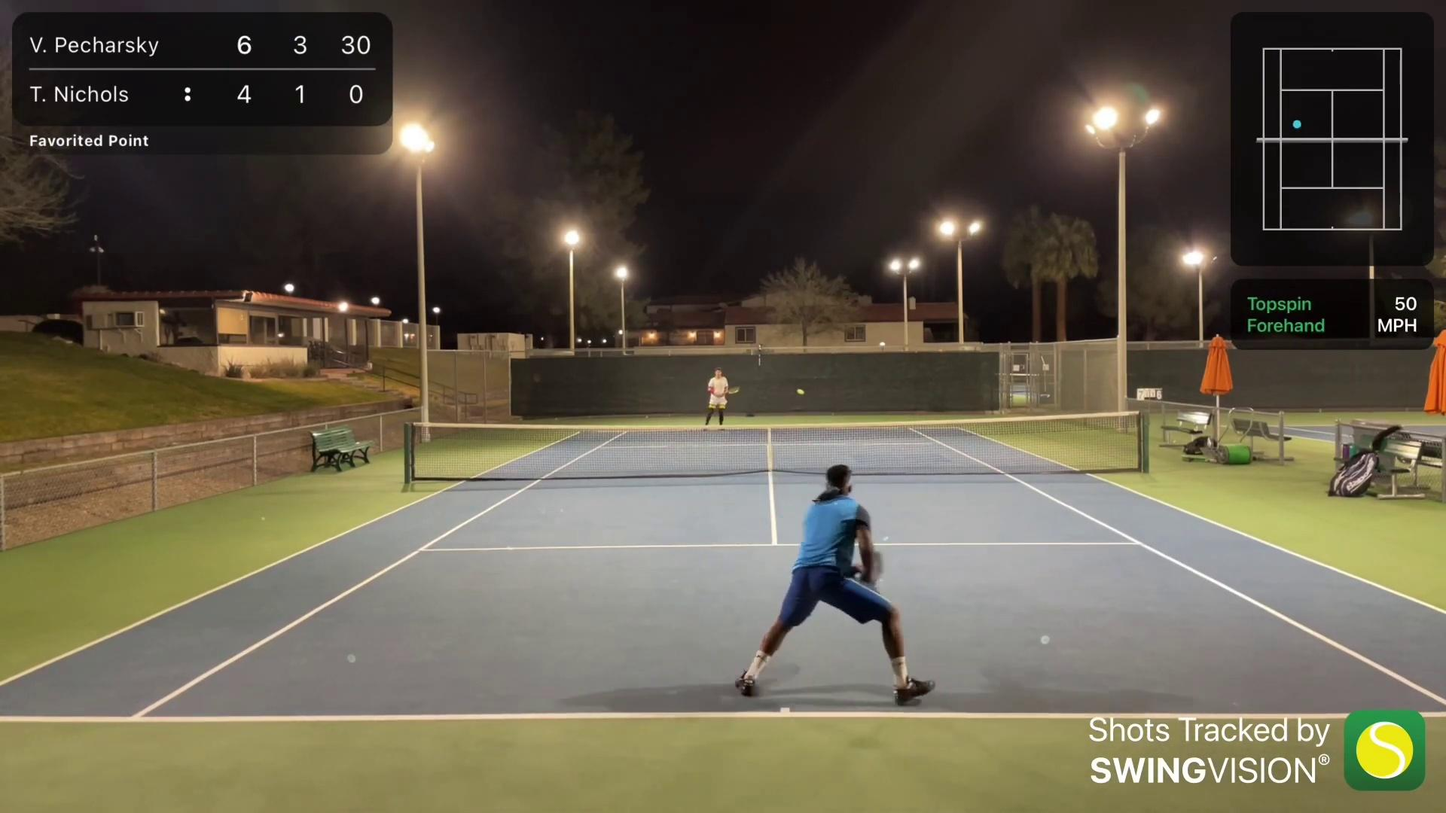ball: (799, 390, 805, 396)
